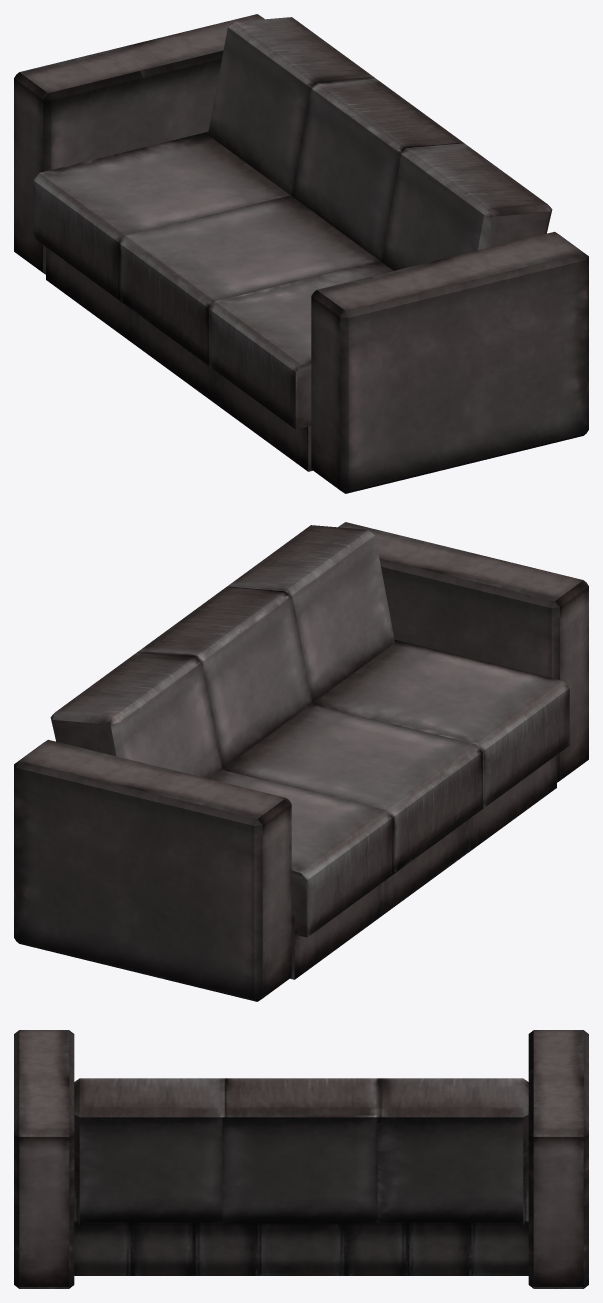
File: ps2_sofa.glb
The picture shows the model from 3 angles, top to bottom: view 1: azimuth 30°, elevation 25°; view 2: azimuth 150°, elevation 25°; view 3: azimuth 270°, elevation 25°; orthographic projection. The views are drawn at different scales.
Visible parts, largest first — view 1: black_sofa_v2.001; view 2: black_sofa_v2.001; view 3: black_sofa_v2.001.
Part boxes in pixels (x1=…): black_sofa_v2.001: x1=14, y1=14, x2=588, y2=493; black_sofa_v2.001: x1=14, y1=522, x2=588, y2=1001; black_sofa_v2.001: x1=14, y1=1030, x2=588, y2=1288.
Bounding box in the file's own units: 0.8696 × 0.6836 × 1.92.
1 material, 1 textured.
